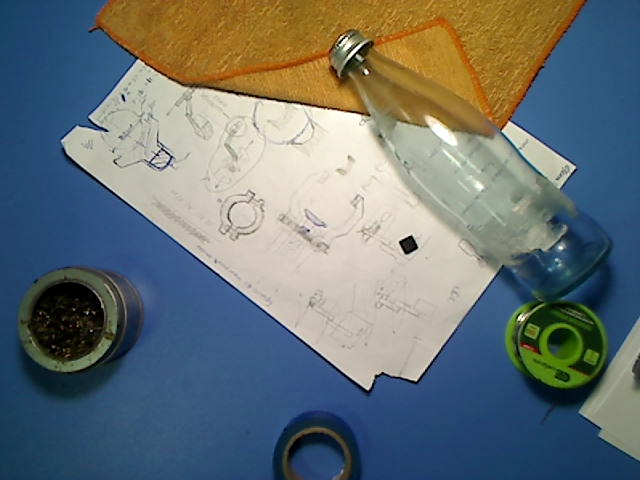bottle: (328, 29, 617, 303)
